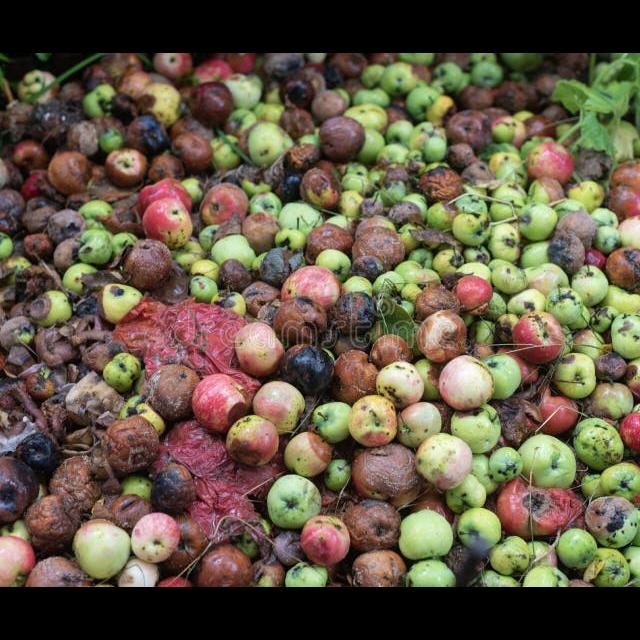food_waste: (0, 517, 640, 587), (124, 418, 286, 532), (120, 301, 270, 370), (0, 442, 118, 522), (456, 166, 538, 266), (0, 234, 80, 329), (565, 171, 640, 265), (177, 372, 283, 432), (416, 441, 514, 498), (0, 350, 68, 427), (139, 182, 195, 261), (110, 411, 176, 470), (34, 134, 99, 185), (0, 182, 60, 235), (190, 182, 256, 227), (233, 318, 282, 374), (100, 146, 148, 202), (32, 202, 93, 242), (169, 126, 218, 175), (307, 106, 354, 156), (17, 102, 97, 130), (598, 234, 640, 283), (346, 402, 394, 442), (0, 138, 17, 190)
